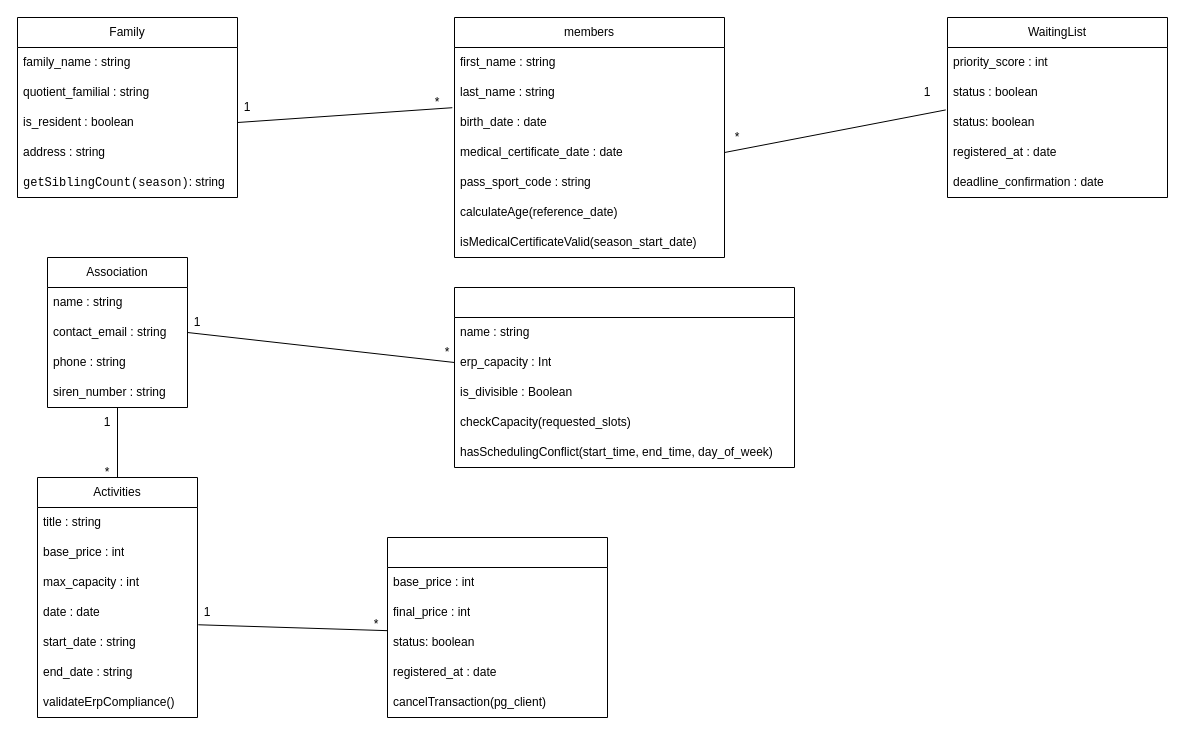
Some shapes in this 1185 by 735 pixel diagram are drawn without their labels. Here are the shapes that lost their labels. From the top down, the box of each, then its label:
(454, 286, 794, 468): Facilities
(386, 536, 608, 718): Registration
